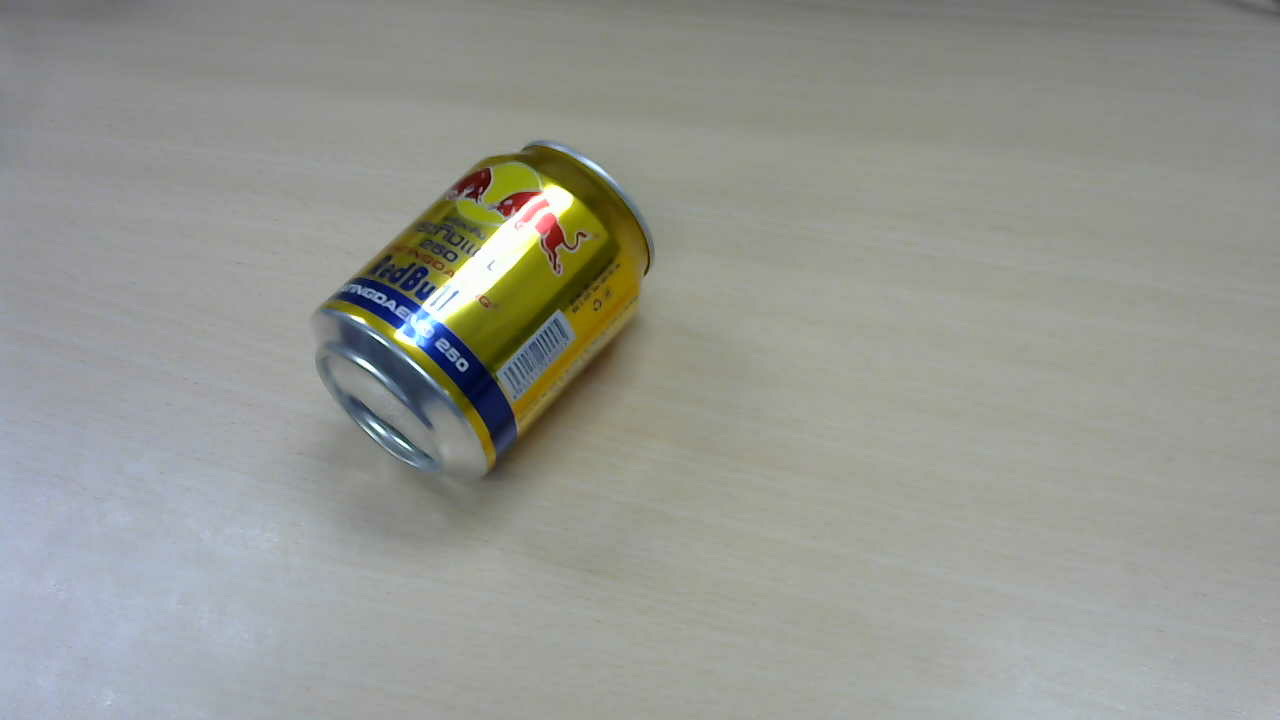Red_Bull: (320, 144, 658, 483)
